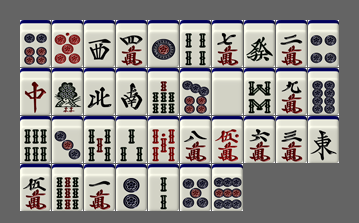0m: (212, 116, 243, 163)
0p: (52, 20, 83, 67)
0s: (148, 116, 179, 163)
1m: (84, 164, 115, 211)
1p: (148, 20, 179, 67)
1s: (52, 68, 83, 115)
1z: (308, 116, 339, 163)
2m: (276, 20, 307, 67)
2p: (116, 164, 147, 211)
2s: (148, 164, 179, 211)
2z: (116, 68, 147, 115)
3m: (276, 116, 307, 163)
3p: (52, 116, 83, 163)
3s: (116, 116, 147, 163)
3z: (84, 20, 115, 67)
4m: (116, 20, 147, 67)
4p: (308, 20, 339, 67)
4s: (180, 20, 211, 67)
4z: (84, 68, 115, 115)
5m: (20, 164, 51, 211)
5p: (180, 164, 211, 211)
5s: (84, 116, 115, 163)
5z: (212, 68, 243, 115)
6m: (244, 116, 275, 163)
6p: (20, 20, 51, 67)
6s: (20, 116, 51, 163)
6z: (244, 20, 275, 67)
7m: (212, 20, 243, 67)
7p: (180, 68, 211, 115)
7s: (148, 68, 179, 115)
7z: (20, 68, 51, 115)
8m: (180, 116, 211, 163)
8p: (308, 68, 339, 115)
8s: (244, 68, 275, 115)
9m: (276, 68, 307, 115)
9p: (212, 164, 243, 211)
9s: (52, 164, 83, 211)
